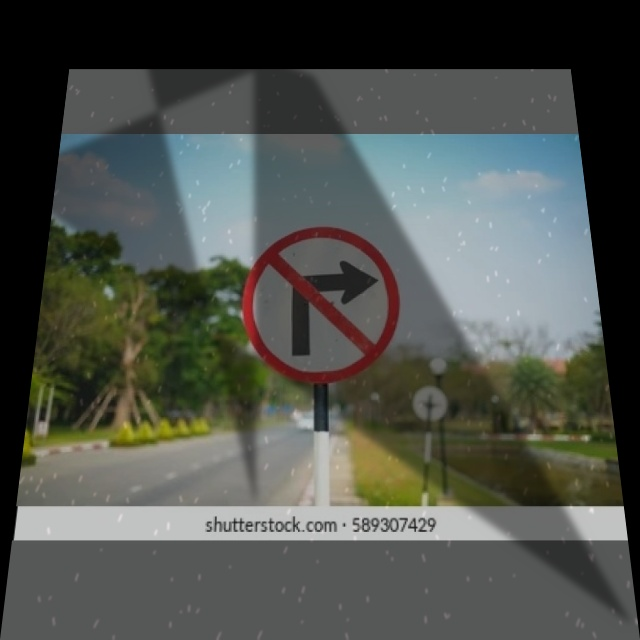Right_Turn_Prohibited: (239, 227, 404, 385)
